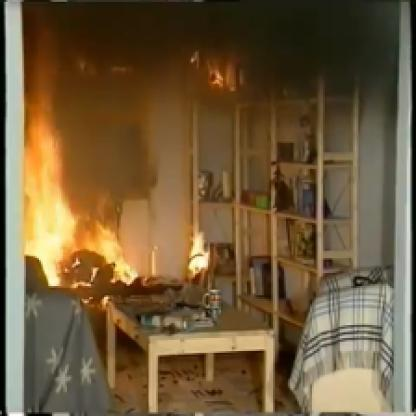fire: (23, 57, 136, 288), (192, 43, 246, 115), (180, 220, 218, 301)
